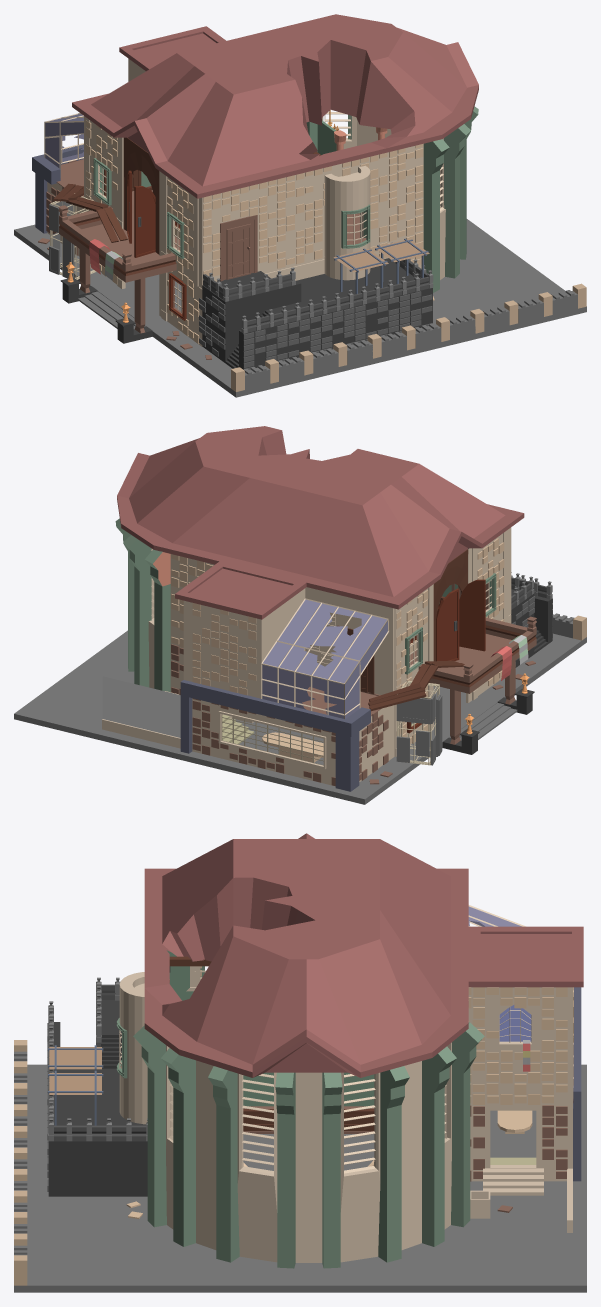
Rendered from House_5.fbx.
The picture shows the model from 3 angles, top to bottom: view 1: azimuth 30°, elevation 25°; view 2: azimuth 150°, elevation 25°; view 3: azimuth 270°, elevation 25°; orthographic projection. The views are drawn at different scales.
Visible parts, largest first — view 1: House_Floor_0, Roof, House_Floor1; view 2: Roof, House_Floor_0, House_Floor1, House_Fence; view 3: House_Floor_0, Roof, House_Floor1.
Boxes of the visible parts, x1,y1,x2,y2 form: House_Floor_0: (14,106,586,397); Roof: (72,14,478,198); House_Floor1: (44,58,434,343); Roof: (117,426,524,619); House_Floor_0: (14,518,586,804); House_Floor1: (153,527,536,743); House_Fence: (102,676,180,737); House_Floor_0: (14,977,586,1292); Roof: (144,833,583,1077); House_Floor1: (116,905,573,1219).
Size of the model in its own units: 18.73 by 10.3 by 18.79.
